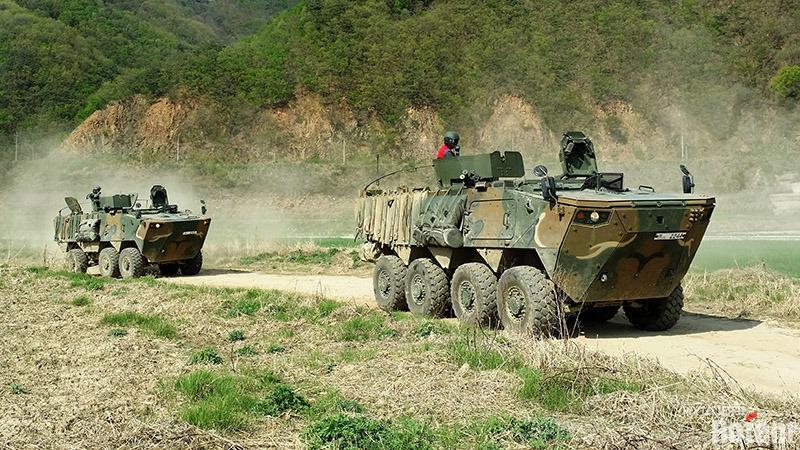MIL_IFV: (355, 129, 718, 344), (49, 185, 211, 284)
